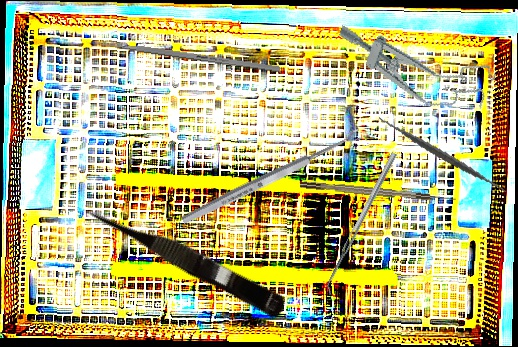Hook Surgical: (300, 179, 456, 205)
Micro Scissor: (78, 193, 291, 321)
Pusher: (85, 38, 281, 73)
Spatula Surgical: (377, 90, 508, 219), (321, 151, 403, 297)
Speculum: (326, 13, 499, 124)
Surgical Spoon: (180, 128, 363, 227)
